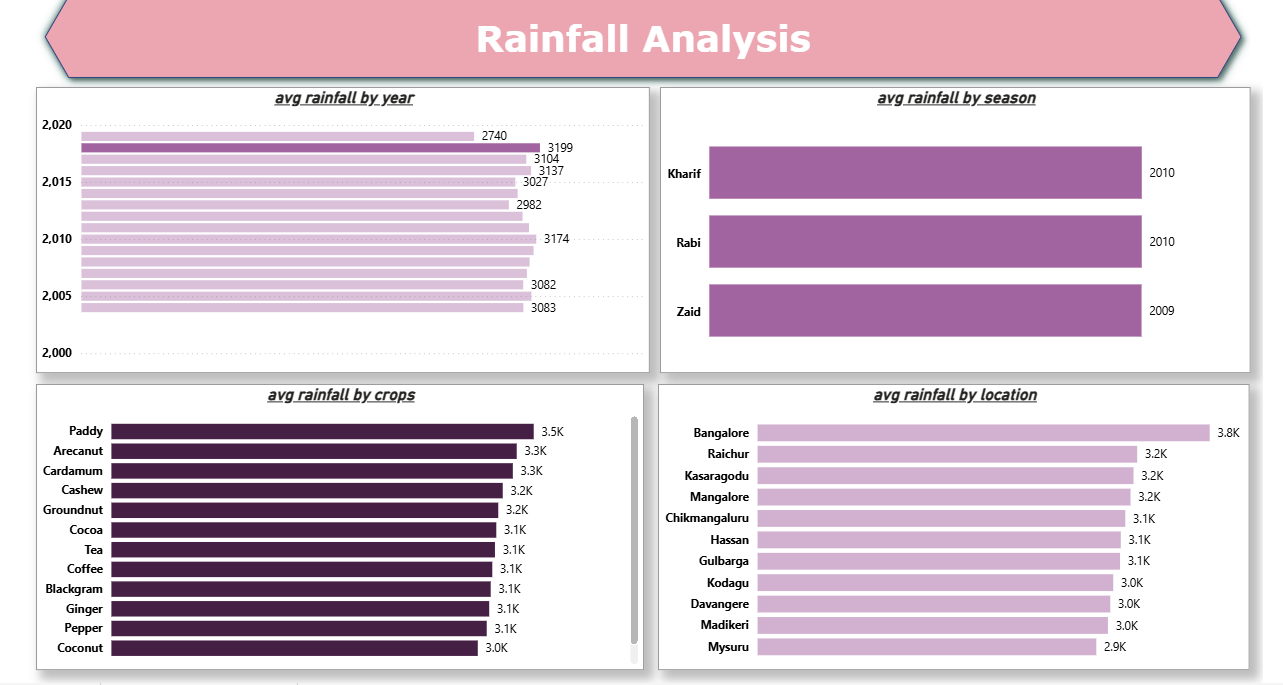

Layout of this report page (visuals, bound fields, positions):
{"tool":"powerbi","page":{"name":" Rainfall Analysis","canvas":[1280,720],"ordinal":0},"visuals":[{"type":"shape","box":[10.5,0,1256.3,103.1],"z":0},{"type":"barChart","title":"avg rainfall by year","fields":{"Y":["Avg(AGRICULTURE.RAINFALL)"],"Category":["AGRICULTURE.YEAR"]},"box":[10.5,103.1,634.9,295.8],"z":1000},{"type":"barChart","title":"avg rainfall by season","fields":{"Y":["Avg(AGRICULTURE.YEAR)"],"Category":["AGRICULTURE.SEASON"]},"box":[655.8,103.1,611,295.8],"z":2000},{"type":"barChart","title":"avg rainfall by crops","fields":{"Y":["Avg(AGRICULTURE.RAINFALL)"],"Category":["AGRICULTURE.CROPS"]},"box":[10.5,410.8,628.9,295.8],"z":3000},{"type":"barChart","title":"avg rainfall by location","fields":{"Y":["Avg(AGRICULTURE.RAINFALL)"],"Category":["AGRICULTURE.LOCATION"]},"box":[654.3,410.8,612.4,295.8],"z":4000}]}

Visuals, with their boxes on the page's 1280x720 design canvas (x1, y1, x2, y2). These are canvas units, not pixel positions in the 1283x685 screenshot, which may show the page scaled, cropped or inside an application window:
shape: l=10, t=0, r=1267, b=103
"avg rainfall by year" barChart: l=10, t=103, r=645, b=399
"avg rainfall by season" barChart: l=656, t=103, r=1267, b=399
"avg rainfall by crops" barChart: l=10, t=411, r=639, b=707
"avg rainfall by location" barChart: l=654, t=411, r=1267, b=707
